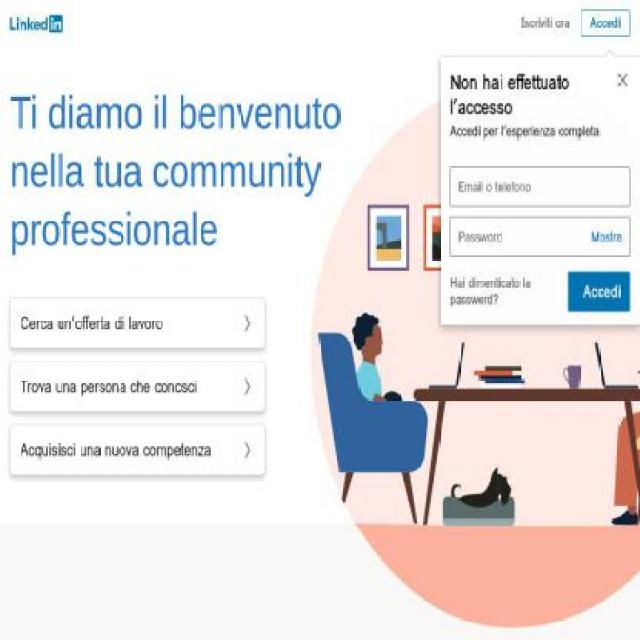button: (10, 424, 265, 476), (10, 297, 265, 348), (10, 362, 265, 412), (450, 274, 564, 308), (568, 272, 630, 312), (583, 217, 631, 258), (516, 9, 576, 37), (579, 9, 630, 37), (607, 60, 638, 100), (10, 14, 62, 32)
field: (450, 167, 630, 207), (450, 217, 584, 257)
